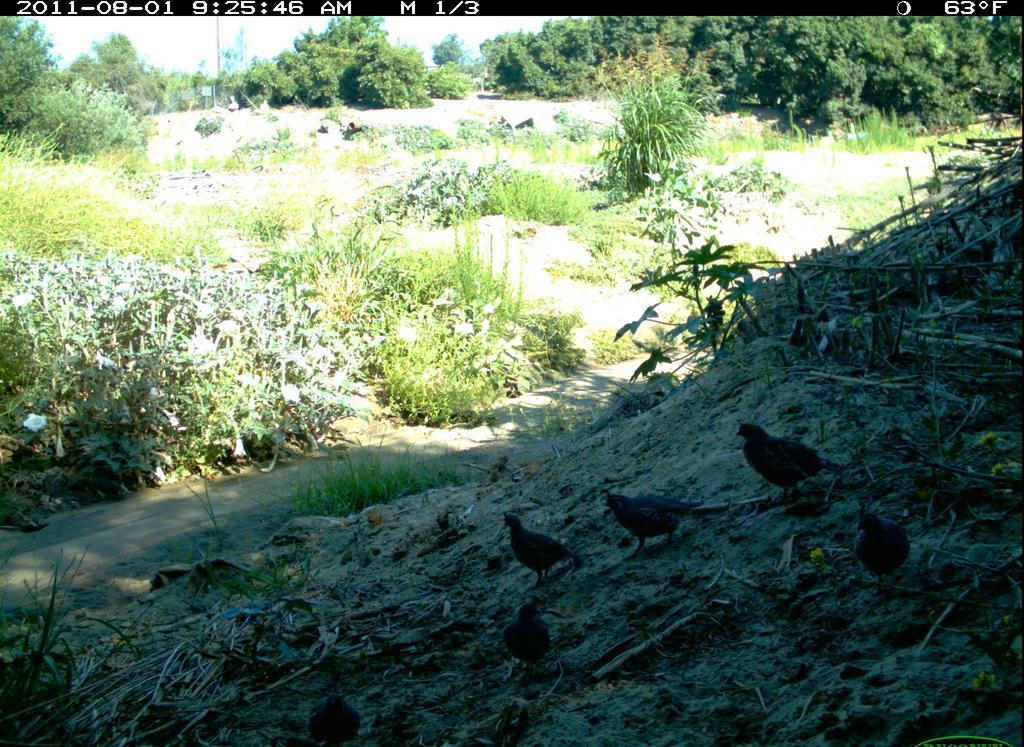bird: (737, 415, 844, 510), (598, 486, 715, 557), (500, 504, 588, 592), (845, 498, 922, 583), (498, 600, 569, 674), (306, 683, 365, 747)
